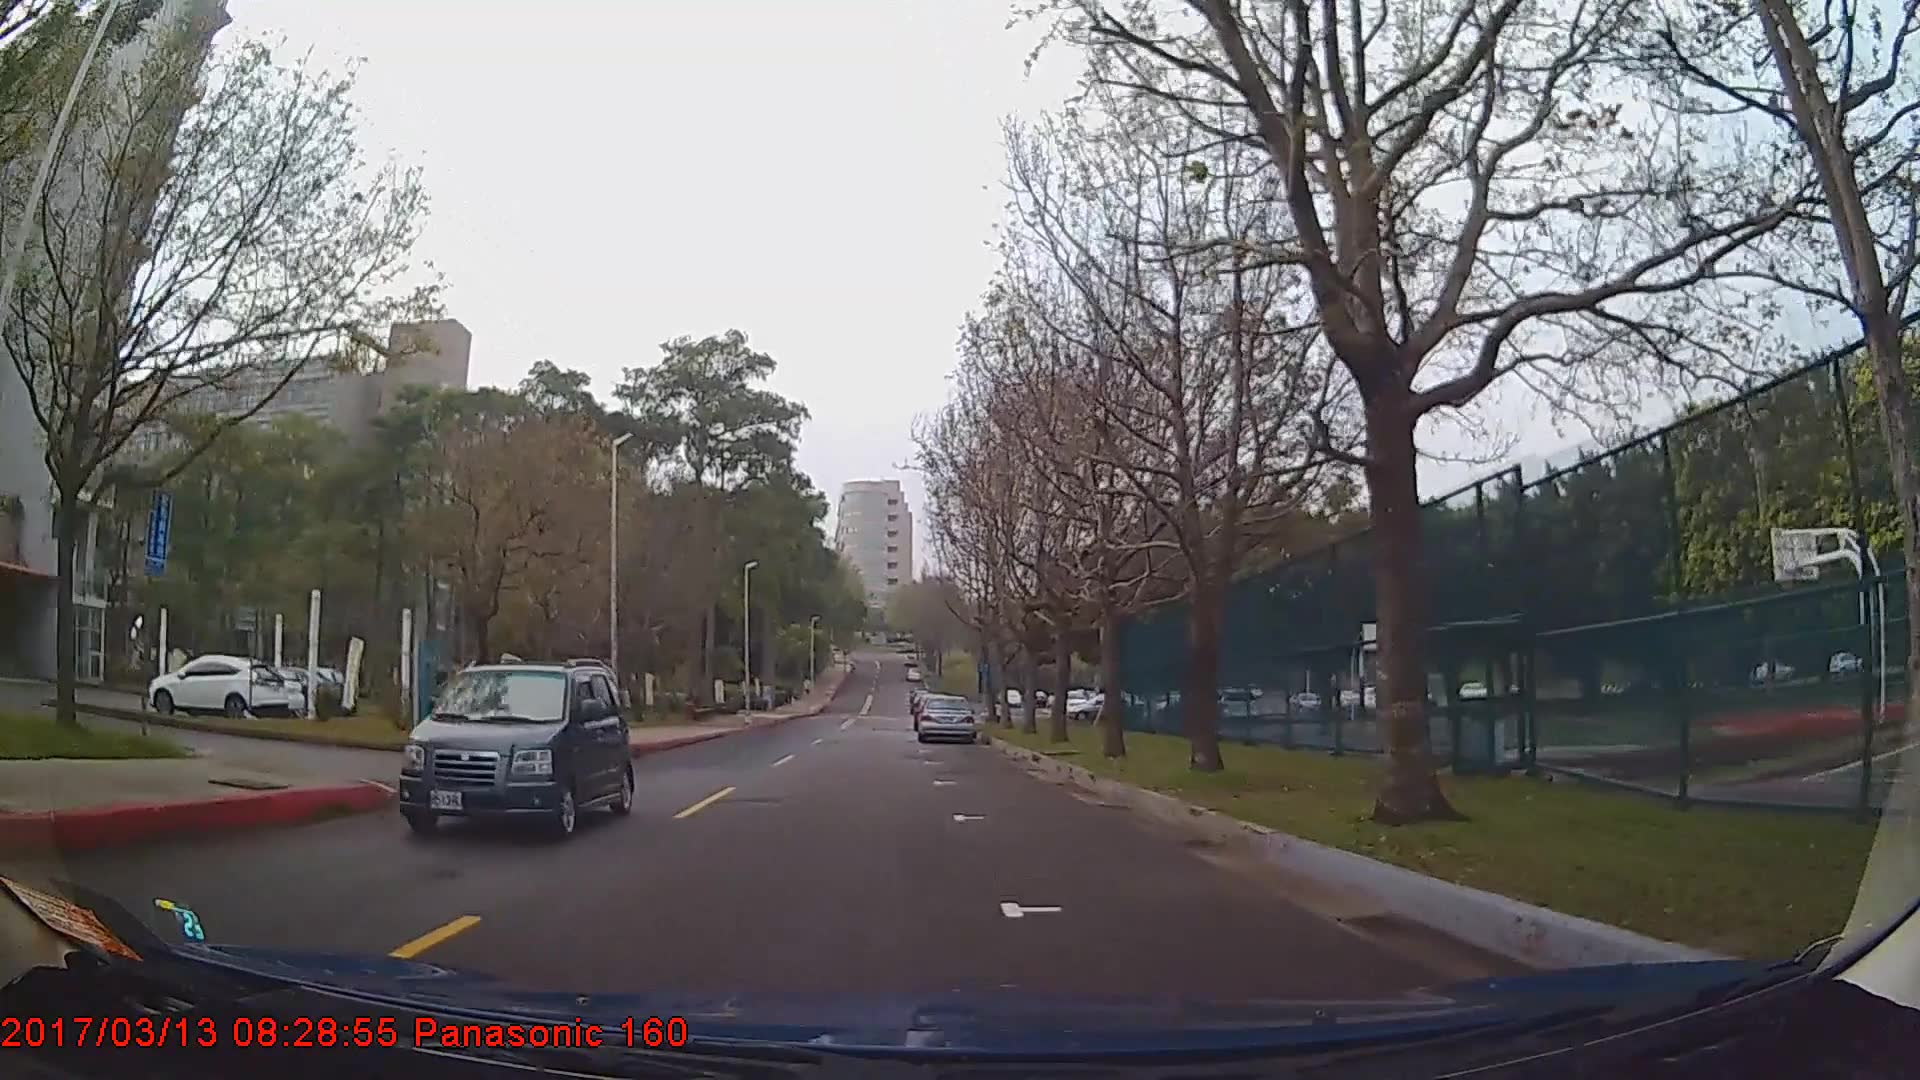vehicle: (396, 659, 633, 841), (146, 651, 285, 717), (915, 688, 976, 740)
